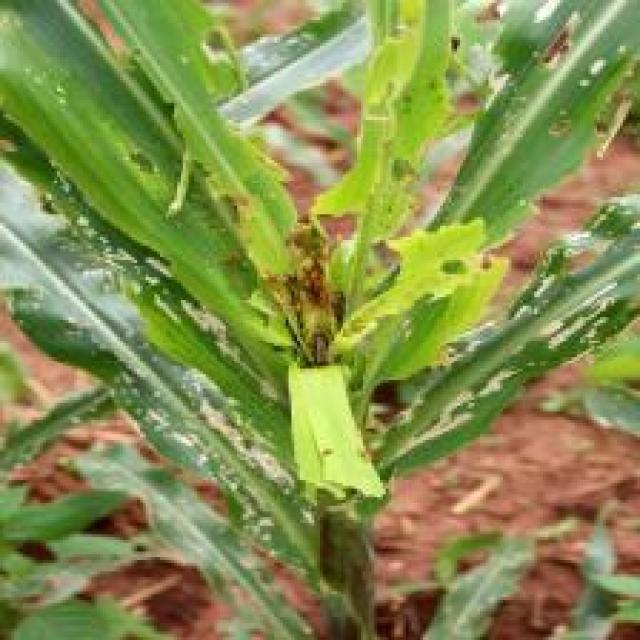Plaga: (301, 320, 341, 377)
